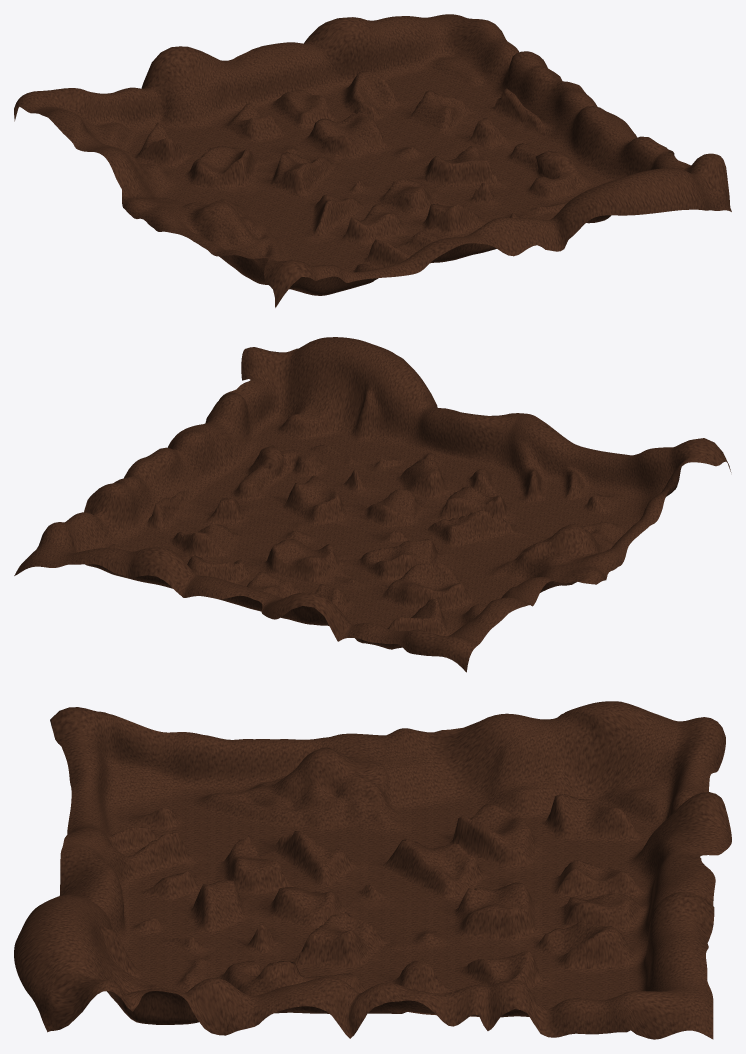
The model's file is Junkyard.fbx.
3 views of the same model, one above another, from view 1: azimuth 30°, elevation 25°; view 2: azimuth 150°, elevation 25°; view 3: azimuth 270°, elevation 25° (orthographic). The views are drawn at different scales.
Parts seen in each view (by area): view 1: Ground; view 2: Ground; view 3: Ground.
Boxes of the visible parts, box(x1,y1,x2,y2) form: Ground: box(14, 14, 731, 307); Ground: box(14, 337, 731, 672); Ground: box(14, 701, 731, 1039).
Bounding box in the file's own units: 212 × 27.44 × 220.
